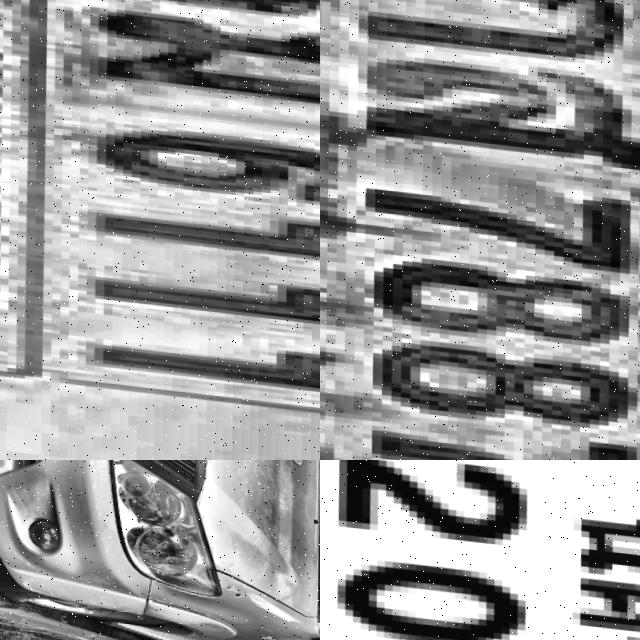license-plate: (0, 0, 320, 460), (320, 0, 640, 460), (320, 460, 640, 640)
